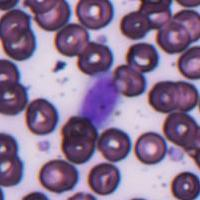L: (78, 70, 121, 127)
